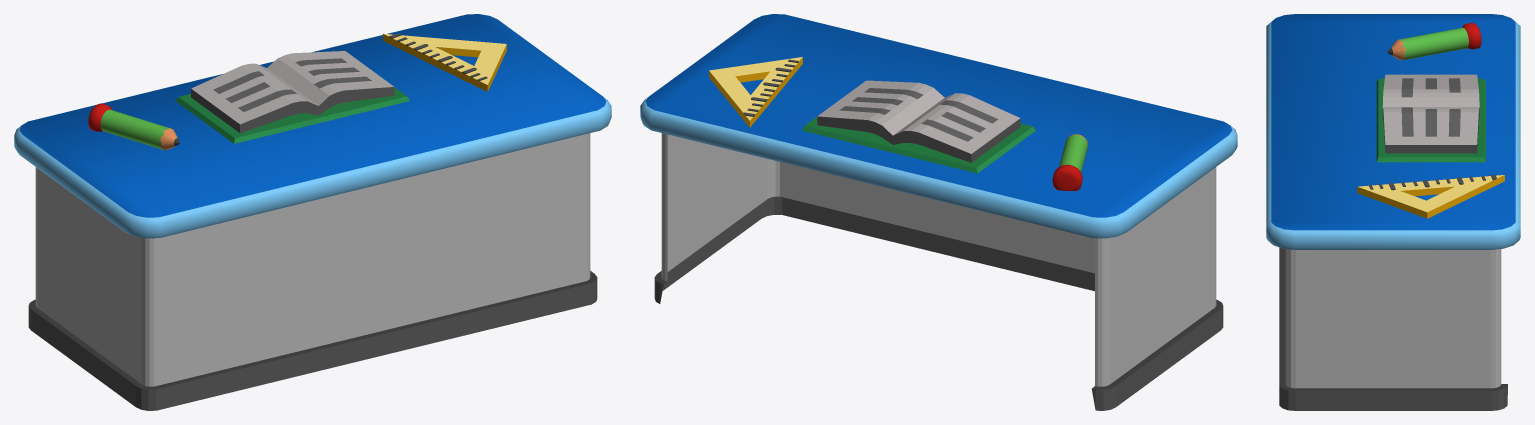
The model's file is Techer Table.fbx.
The picture shows the model from 3 angles, left to right: view 1: azimuth 30°, elevation 25°; view 2: azimuth 150°, elevation 25°; view 3: azimuth 270°, elevation 25°; orthographic projection. The views are drawn at different scales.
Visible parts, largest first — view 1: Techer Table; view 2: Techer Table; view 3: Techer Table.
Part boxes in pixels (box(x1,y1,x2,y2)): Techer Table: box(14, 14, 611, 410); Techer Table: box(640, 14, 1237, 410); Techer Table: box(1266, 14, 1520, 410).
Bounding box in the file's own units: 13.99 × 6.08 × 6.82.
